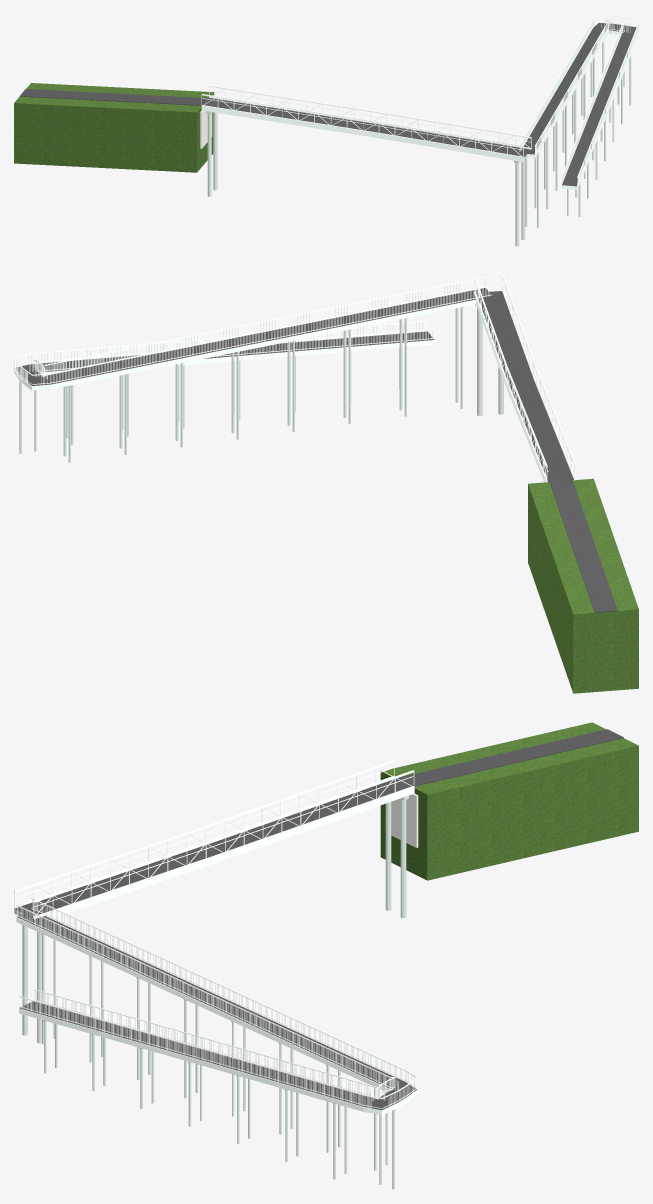
Rendered from a38_footbridge.glb.
3 renders of one model, top to bottom at view 1: azimuth 30°, elevation 25°; view 2: azimuth 150°, elevation 25°; view 3: azimuth 270°, elevation 25°, orthographic. The views are drawn at different scales.
Parts seen in each view (by area): view 1: Bank, RampDeck, RampSurface, RampColumn; view 2: RampDeck, RampSurface, Bank, RampColumn; view 3: RampDeck, Bank, RampSurface, RampColumn, BankSeat.
Part boxes in pixels (left/top/right/bottom): Bank: left=14, top=83, right=214, bottom=172; RampDeck: left=201, top=14, right=638, bottom=189; RampSurface: left=19, top=23, right=636, bottom=186; RampColumn: left=206, top=41, right=631, bottom=246; RampDeck: left=14, top=275, right=575, bottom=482; RampSurface: left=16, top=288, right=617, bottom=612; Bank: left=528, top=478, right=638, bottom=693; RampColumn: left=19, top=304, right=573, bottom=482; RampDeck: left=14, top=760, right=417, bottom=1115; Bank: left=380, top=722, right=638, bottom=880; RampSurface: left=15, top=729, right=623, bottom=1110; RampColumn: left=15, top=795, right=408, bottom=1189; BankSeat: left=391, top=793, right=418, bottom=847.
Bounding box in the file's own units: 84.96 × 15.06 × 58.76.
Materials: 5 (2 with a texture image).
